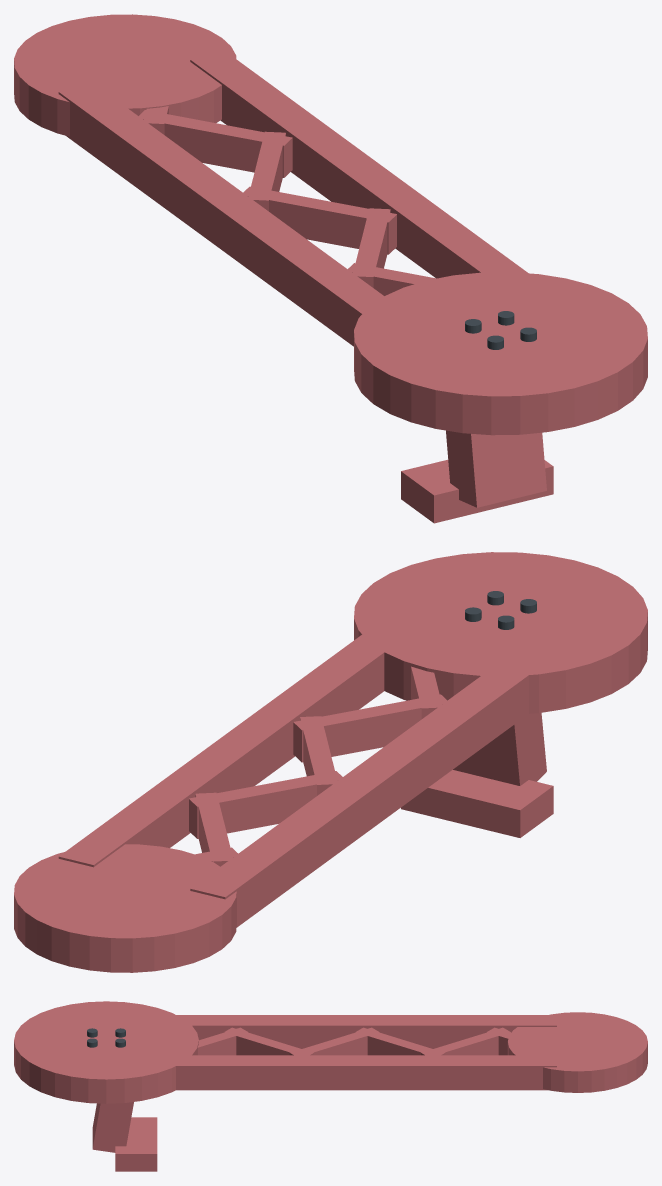
Rendered from f450_arm_red.glb.
The picture shows the model from 3 angles, top to bottom: view 1: azimuth 30°, elevation 25°; view 2: azimuth 150°, elevation 25°; view 3: azimuth 270°, elevation 25°; orthographic projection. The views are drawn at different scales.
Visible parts, largest first — view 1: motor_pad, railL, railR, root, leg, d1, d3, foot, d4, d2, d5; view 2: motor_pad, railL, root, railR, foot, d4, d2, leg, d3, d1, d5; view 3: motor_pad, railR, railL, root, foot, leg, d3, d1, d4, d2, d5, d0.
Part boxes in pixels (x1=…): motor_pad: x1=354, y1=272, x2=647, y2=435; railL: x1=58, y1=83, x2=440, y2=346; railR: x1=190, y1=51, x2=571, y2=313; root: x1=14, y1=14, x2=236, y2=136; leg: x1=446, y1=430, x2=546, y2=507; d1: x1=139, y1=110, x2=292, y2=177; d3: x1=243, y1=186, x2=396, y2=254; foot: x1=401, y1=459, x2=553, y2=523; d4: x1=353, y1=208, x2=390, y2=287; d2: x1=248, y1=131, x2=285, y2=211; d5: x1=348, y1=263, x2=436, y2=295; motor_pad: x1=354, y1=552, x2=647, y2=713; railL: x1=190, y1=635, x2=571, y2=927; root: x1=14, y1=844, x2=236, y2=972; railR: x1=58, y1=603, x2=440, y2=867; foot: x1=401, y1=770, x2=553, y2=837; d4: x1=293, y1=694, x2=447, y2=762; d2: x1=189, y1=771, x2=342, y2=838; leg: x1=453, y1=713, x2=546, y2=785; d3: x1=300, y1=716, x2=337, y2=795; d1: x1=195, y1=792, x2=232, y2=866; d5: x1=411, y1=666, x2=441, y2=718; motor_pad: x1=14, y1=1001, x2=198, y2=1103; railR: x1=121, y1=1055, x2=556, y2=1090; railL: x1=121, y1=1015, x2=556, y2=1048; root: x1=507, y1=1012, x2=647, y2=1092; foot: x1=115, y1=1117, x2=157, y2=1171; leg: x1=92, y1=1102, x2=133, y2=1152; d3: x1=289, y1=1027, x2=379, y2=1055; d1: x1=421, y1=1027, x2=510, y2=1055; d4: x1=224, y1=1027, x2=313, y2=1055; d2: x1=355, y1=1027, x2=445, y2=1055; d5: x1=197, y1=1027, x2=248, y2=1055; d0: x1=486, y1=1027, x2=510, y2=1055.
Size of the model in its own units: 1.24 by 0.87 by 4.25.
